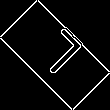L_SW: (26, 27, 84, 83)
